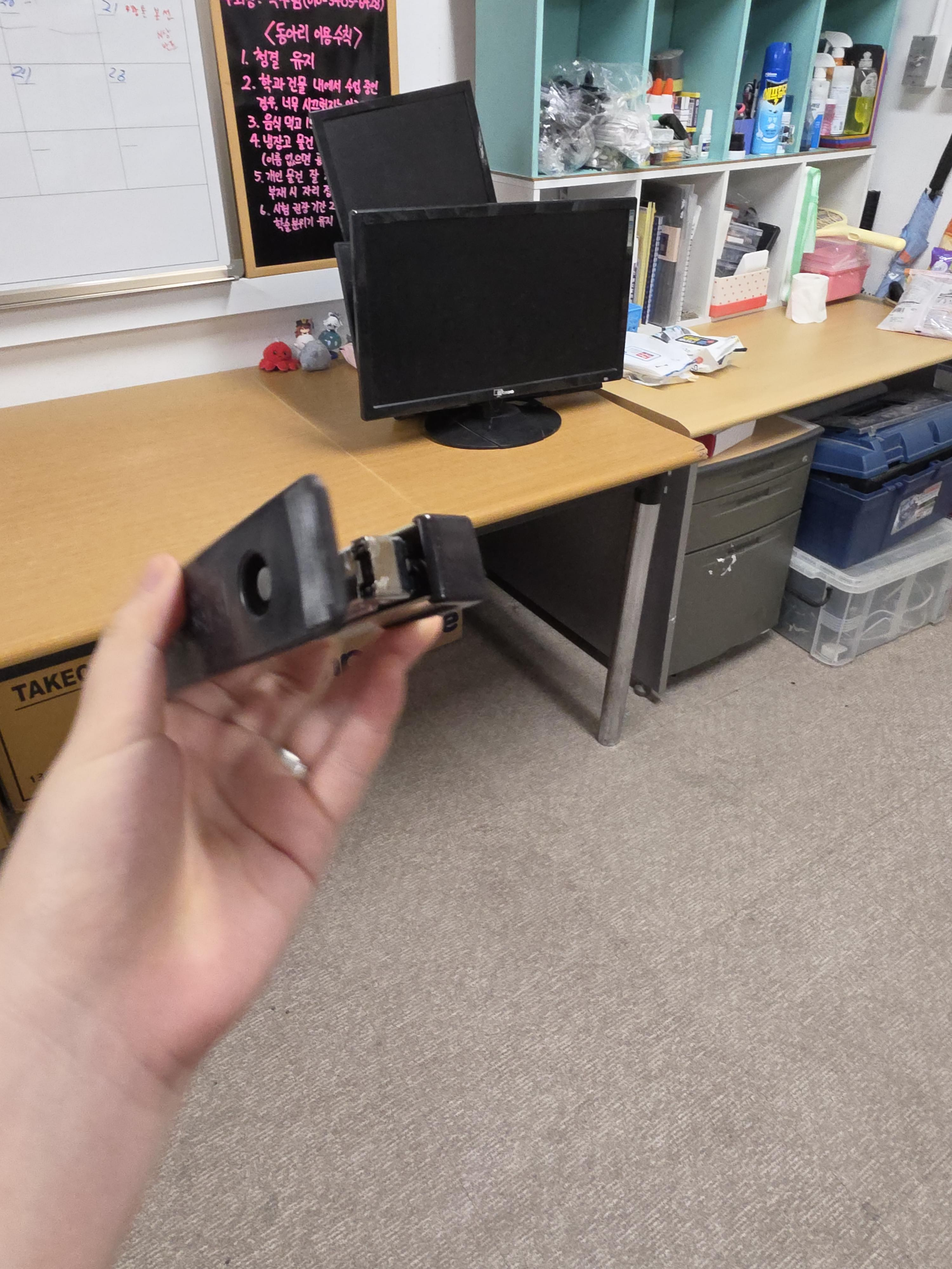stapler: (164, 474, 486, 694)
tissue: (707, 249, 771, 318), (790, 273, 829, 324)
